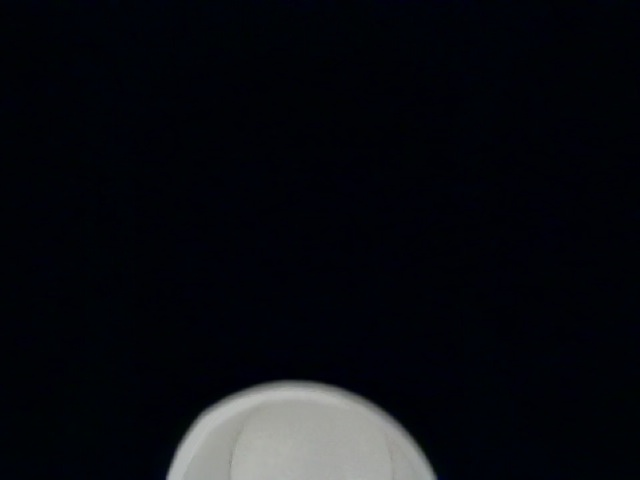KHSLJ: (116, 404, 360, 480)
